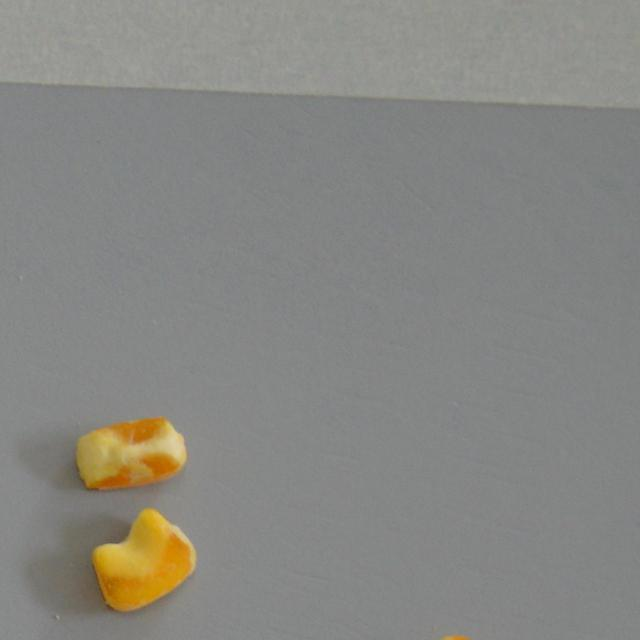pelicula: (90, 504, 200, 612), (72, 415, 188, 490)
